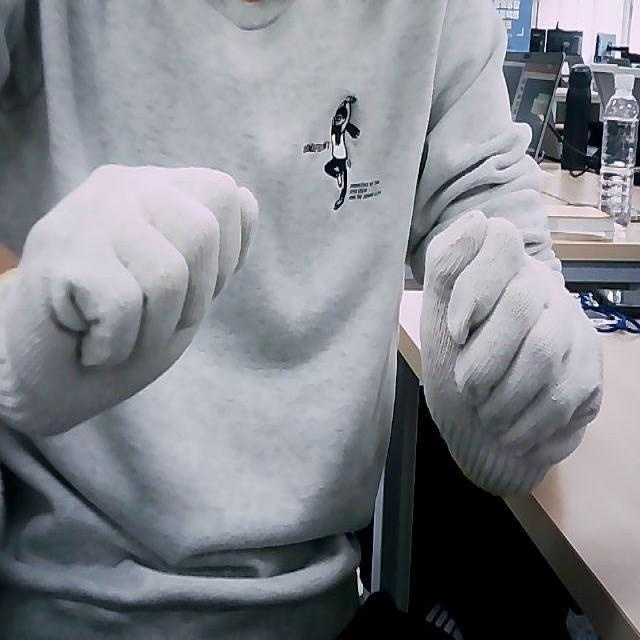Guantes: (0, 160, 259, 428), (421, 210, 607, 498)
